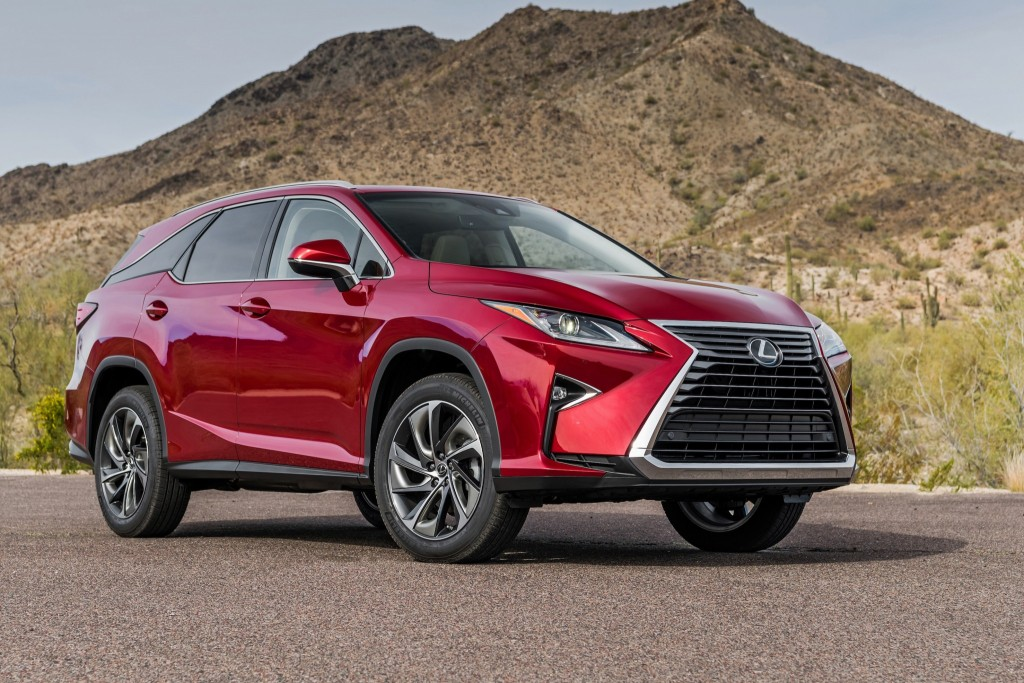pickup: (61, 180, 864, 565)
